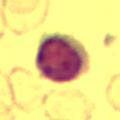lymphocyte: (35, 30, 92, 84), (33, 28, 89, 79)
